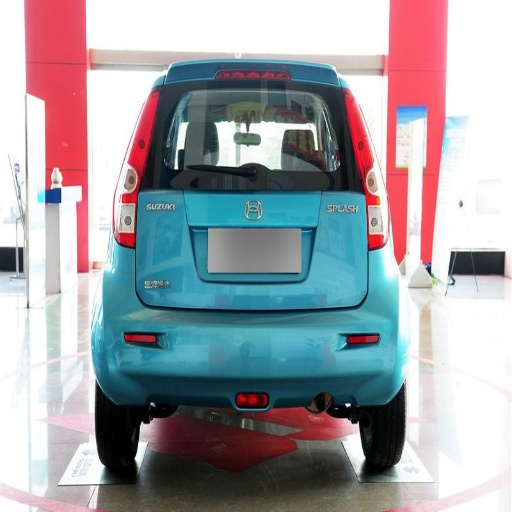back_bumper: (90, 245, 416, 426)
tailgate: (213, 248, 360, 310)
trunk: (129, 168, 362, 311)
